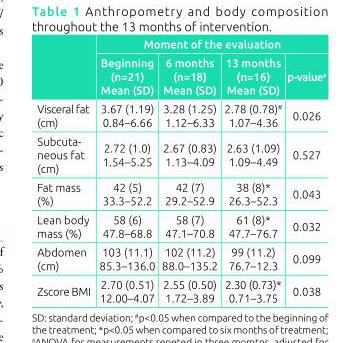table: (36, 36, 325, 303)
table column: (94, 36, 157, 303), (157, 36, 220, 303), (220, 36, 283, 303), (36, 36, 94, 303), (283, 36, 325, 303)
table column header: (36, 36, 325, 98)
table row: (36, 52, 325, 98), (36, 131, 325, 177), (36, 98, 325, 131), (36, 241, 325, 274), (36, 177, 325, 209), (36, 209, 325, 241), (36, 274, 325, 303), (36, 36, 325, 52)
table spanning cell: (94, 36, 325, 52)
